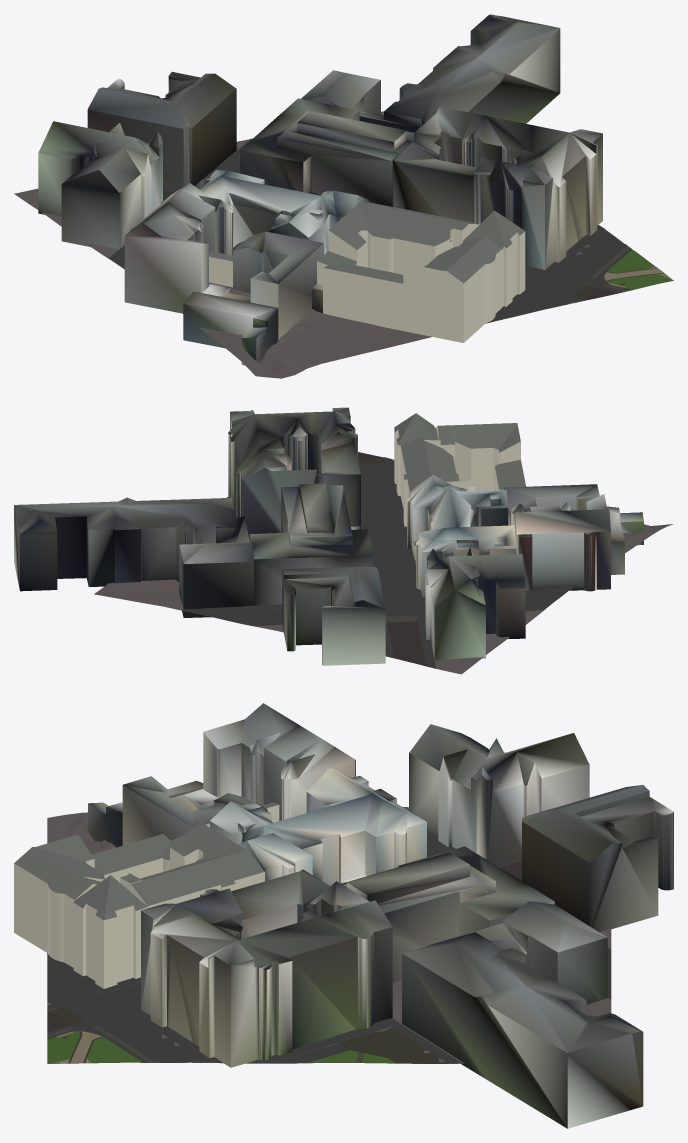
3 renders of one model, top to bottom at view 1: azimuth 30°, elevation 25°; view 2: azimuth 150°, elevation 25°; view 3: azimuth 270°, elevation 25°, orthographic. The views are drawn at different scales.
Parts seen in each view (by area): view 1: c_m07_p02; view 2: c_m07_p02; view 3: c_m07_p02.
Boxes of the visible parts, left/top/right/bottom form: c_m07_p02: left=14, top=14, right=673, bottom=378; c_m07_p02: left=14, top=407, right=672, bottom=674; c_m07_p02: left=14, top=703, right=673, bottom=1128.
Size of the model in its own units: 171 by 29.64 by 150.
